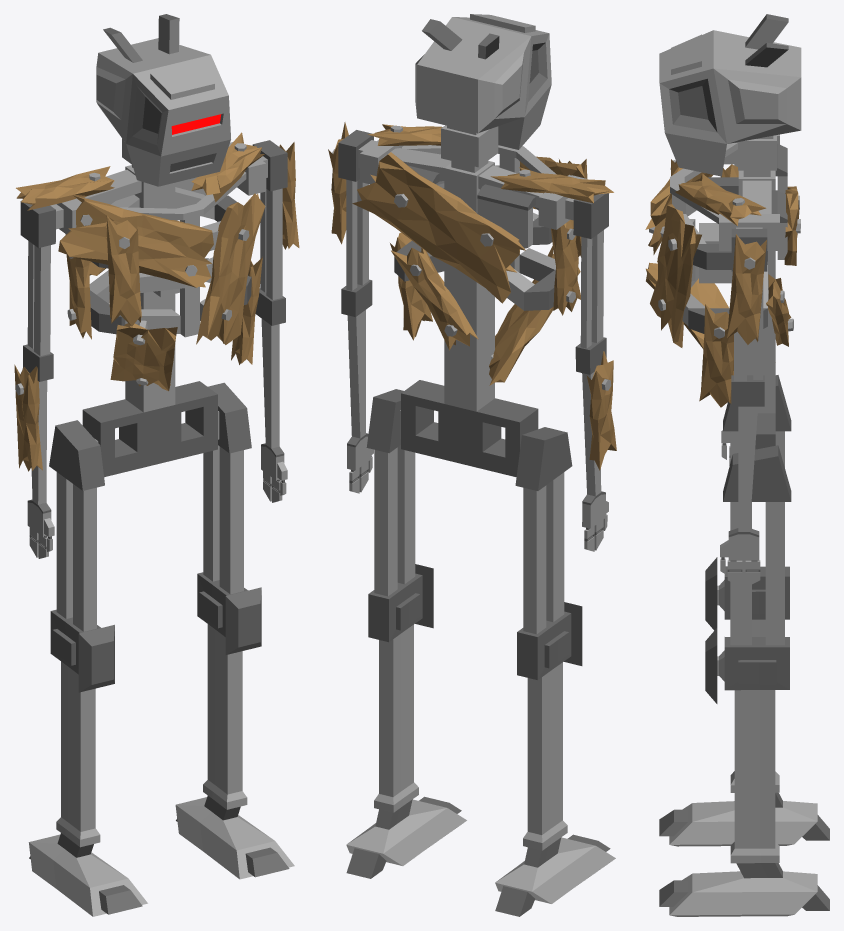
File: BlankRobotV2.fbx
The picture shows the model from 3 angles, left to right: view 1: azimuth 30°, elevation 25°; view 2: azimuth 150°, elevation 25°; view 3: azimuth 270°, elevation 25°; orthographic projection.
Visible parts, largest first — view 1: TorsoMesh, LowerLegMesh (×2), HeadMesh, UpperLegMesh (×2), FootMesh (×2), UpperArmMesh (×2), Plank7, Plank1, LowerArmMesh (×2), Splinter12 (×2), Plank8, Splinter11 (+5 smaller); view 2: TorsoMesh, LowerLegMesh (×2), HeadMesh, UpperLegMesh (×2), FootMesh (×2), Plank9, UpperArmMesh (×2), LowerArmMesh (×2), Splinter12 (×2), Splinter10, Plank8, HandMesh (×2) (+4 smaller); view 3: HeadMesh, LowerLegMesh (×2), FootMesh (×2), TorsoMesh, UpperLegMesh (×2), Plank1, Splinter12, LowerArmMesh, Splinter8, UpperArmMesh, HandMesh, Splinter6 (+4 smaller).
Boxes of the visible parts, x1=… form: TorsoMesh: x1=50, y1=142, x2=267, y2=477; LowerLegMesh (×2): x1=50, y1=572, x2=261, y2=831; HeadMesh: x1=96, y1=14, x2=230, y2=186; UpperLegMesh (×2): x1=49, y1=382, x2=251, y2=631; FootMesh (×2): x1=28, y1=780, x2=294, y2=916; UpperArmMesh (×2): x1=20, y1=140, x2=287, y2=356; Plank7: x1=58, y1=195, x2=213, y2=287; Plank1: x1=196, y1=193, x2=265, y2=344; LowerArmMesh (×2): x1=22, y1=288, x2=285, y2=504; Splinter12 (×2): x1=14, y1=142, x2=299, y2=471; Plank8: x1=110, y1=323, x2=177, y2=391; Splinter11: x1=106, y1=215, x2=141, y2=326; TorsoMesh: x1=358, y1=140, x2=586, y2=477; LowerLegMesh (×2): x1=368, y1=564, x2=582, y2=834; HeadMesh: x1=415, y1=14, x2=551, y2=167; UpperLegMesh (×2): x1=366, y1=389, x2=572, y2=634; FootMesh (×2): x1=346, y1=782, x2=615, y2=916; Plank9: x1=352, y1=152, x2=525, y2=303; UpperArmMesh (×2): x1=338, y1=130, x2=608, y2=348; LowerArmMesh (×2): x1=341, y1=279, x2=606, y2=496; Splinter12 (×2): x1=328, y1=122, x2=616, y2=470; Splinter10: x1=391, y1=248, x2=478, y2=350; Plank8: x1=489, y1=246, x2=580, y2=385; HandMesh (×2): x1=347, y1=433, x2=608, y2=551; HeadMesh: x1=659, y1=14, x2=801, y2=176; LowerLegMesh (×2): x1=705, y1=557, x2=789, y2=848; FootMesh (×2): x1=659, y1=771, x2=829, y2=916; TorsoMesh: x1=670, y1=134, x2=787, y2=449; UpperLegMesh (×2): x1=723, y1=375, x2=791, y2=645; Plank1: x1=650, y1=204, x2=701, y2=347; Splinter12: x1=727, y1=234, x2=766, y2=344; LowerArmMesh: x1=731, y1=375, x2=764, y2=531; Splinter8: x1=699, y1=304, x2=733, y2=407; UpperArmMesh: x1=731, y1=228, x2=767, y2=381; HandMesh: x1=720, y1=528, x2=760, y2=587; Splinter6: x1=675, y1=174, x2=766, y2=225.
Size of the model in its own units: 1.96 by 5.75 by 1.15.
